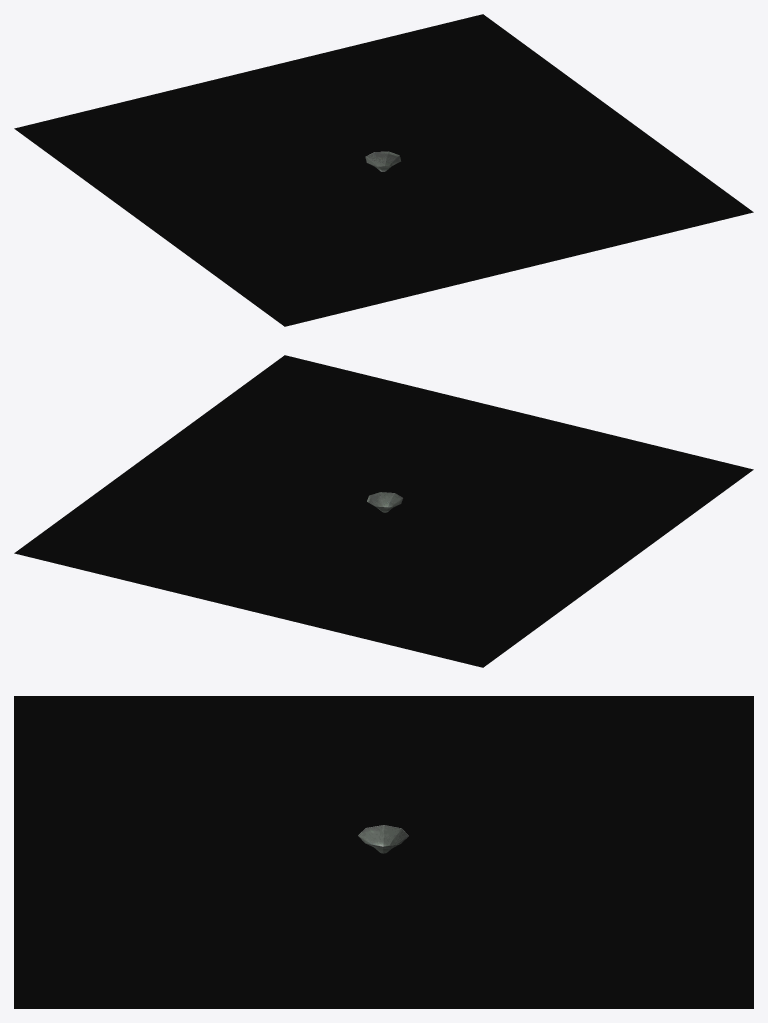
The model's file is ufo_light03.obj.
3 views of the same model, one above another, from view 1: azimuth 30°, elevation 25°; view 2: azimuth 150°, elevation 25°; view 3: azimuth 270°, elevation 25° (orthographic). The views are drawn at different scales.
Visible parts, largest first — view 1: ufo_fan03; view 2: ufo_fan03; view 3: ufo_fan03, ufo_light03.
Boxes of the visible parts, bbox=[...] form: ufo_fan03: bbox=[14, 14, 753, 326]; ufo_fan03: bbox=[14, 355, 753, 667]; ufo_fan03: bbox=[14, 696, 753, 1008]; ufo_light03: bbox=[358, 825, 408, 853].
Size of the model in its own units: 6.61 by 0.8193 by 6.61.
